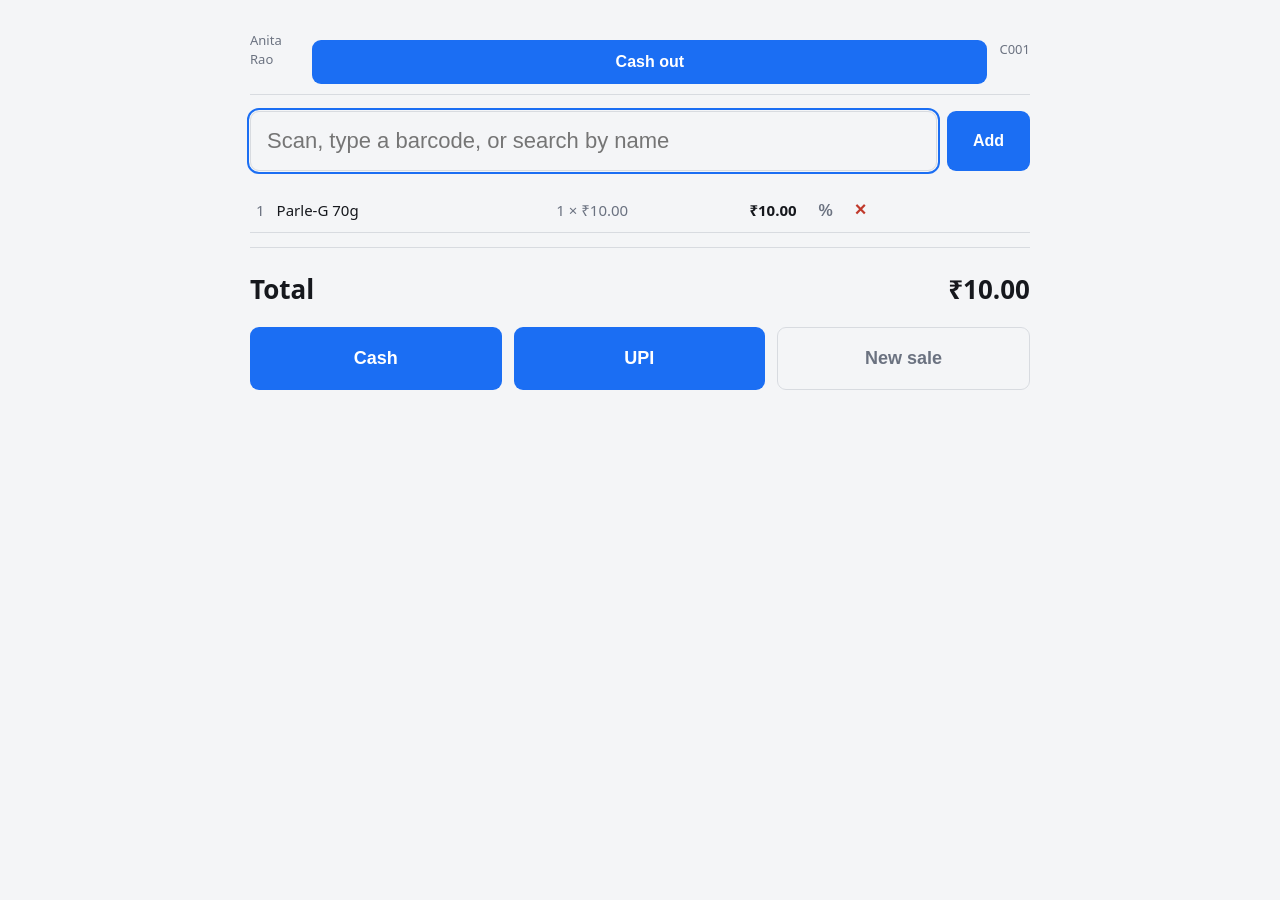
Test case: asking for an override › performs the act itself once a supervisor authorises
Check: the field with placeholder "Scan, type a barcode, or search by name" is shown, box [250,111,937,171]
Click the button named "discount line 1": [826, 211] box [809,201,843,221]
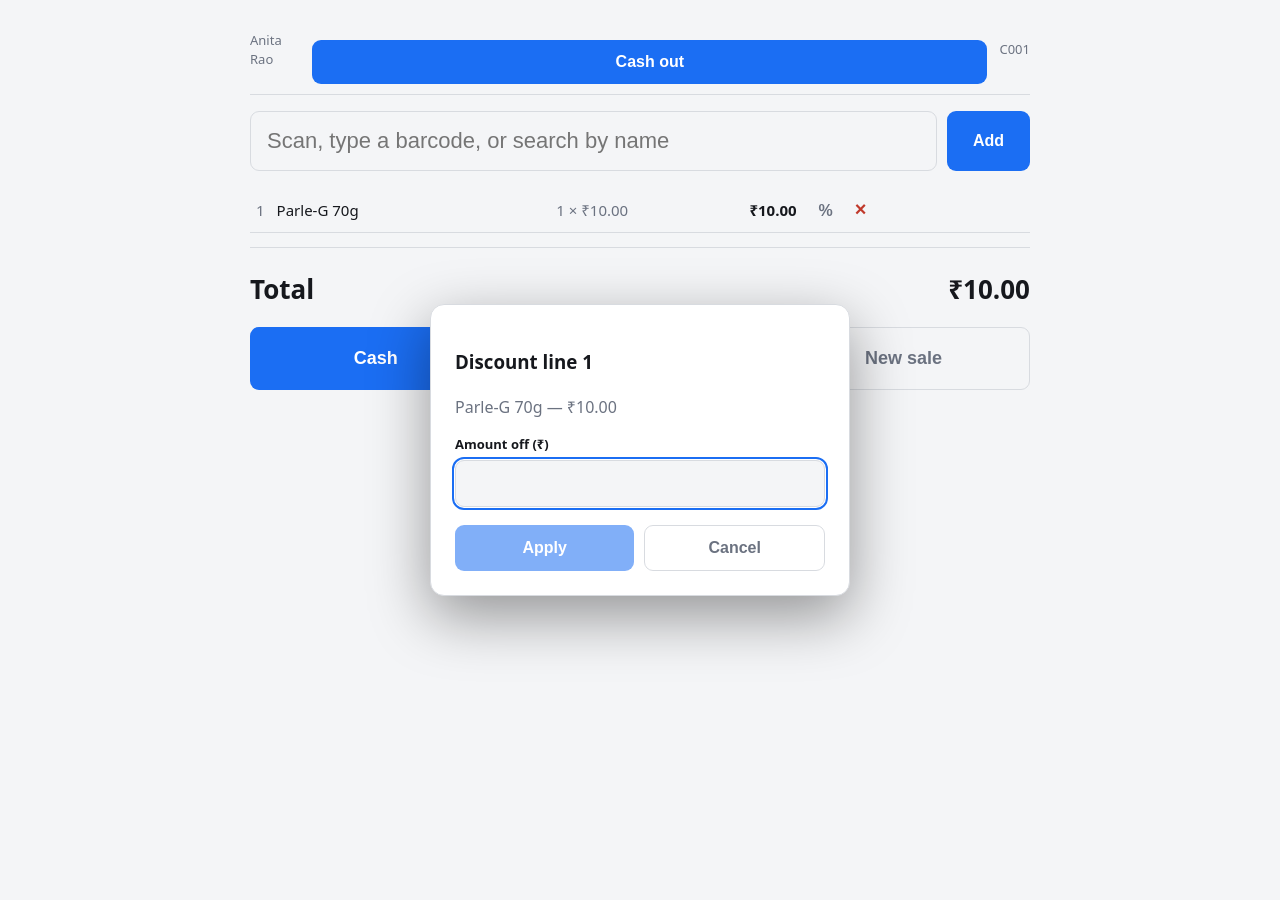
In the field labelled "Amount off (₹)": [640, 484] box [455,460,825,507], type "2"
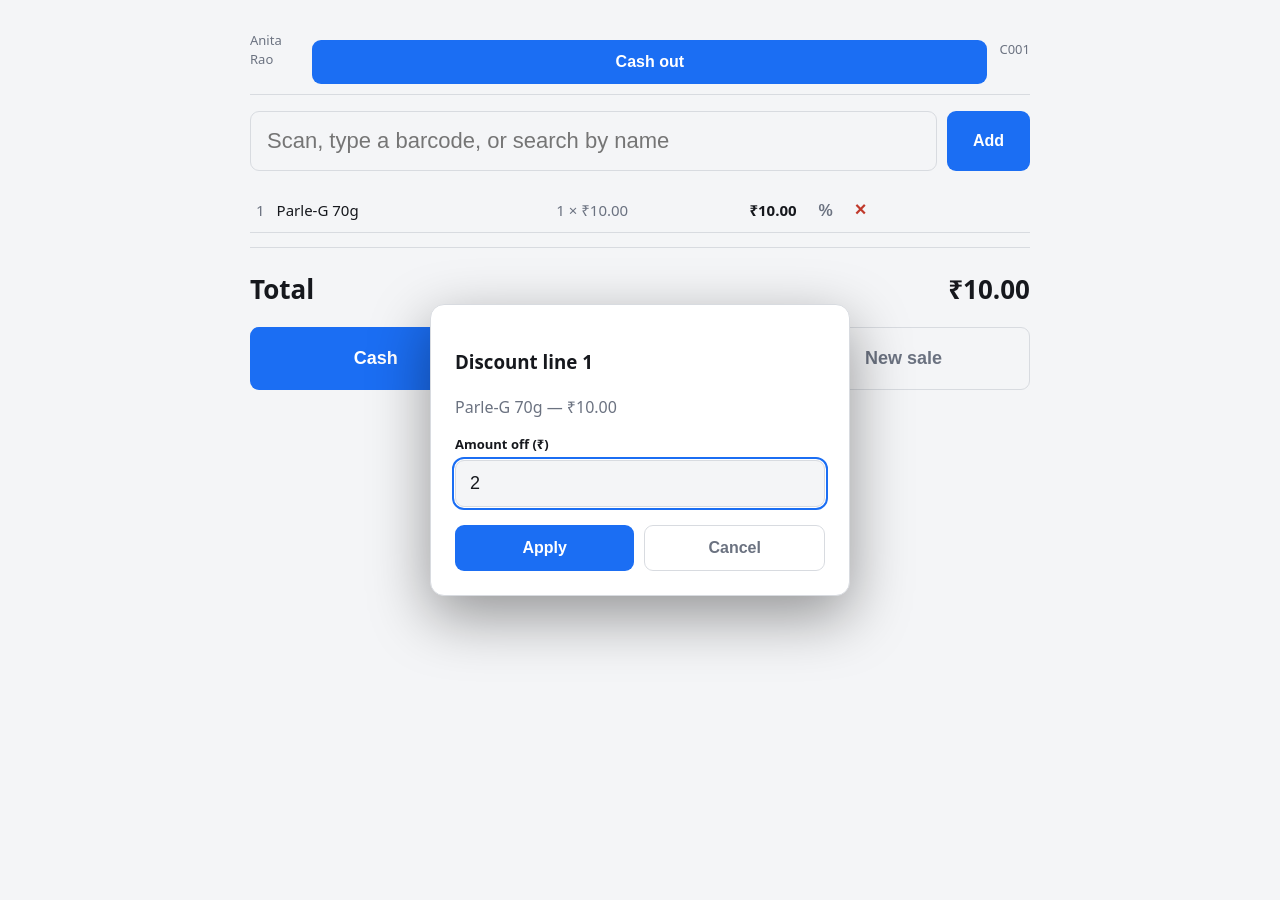
Click the button "Apply": [545, 548] box [455,525,634,571]
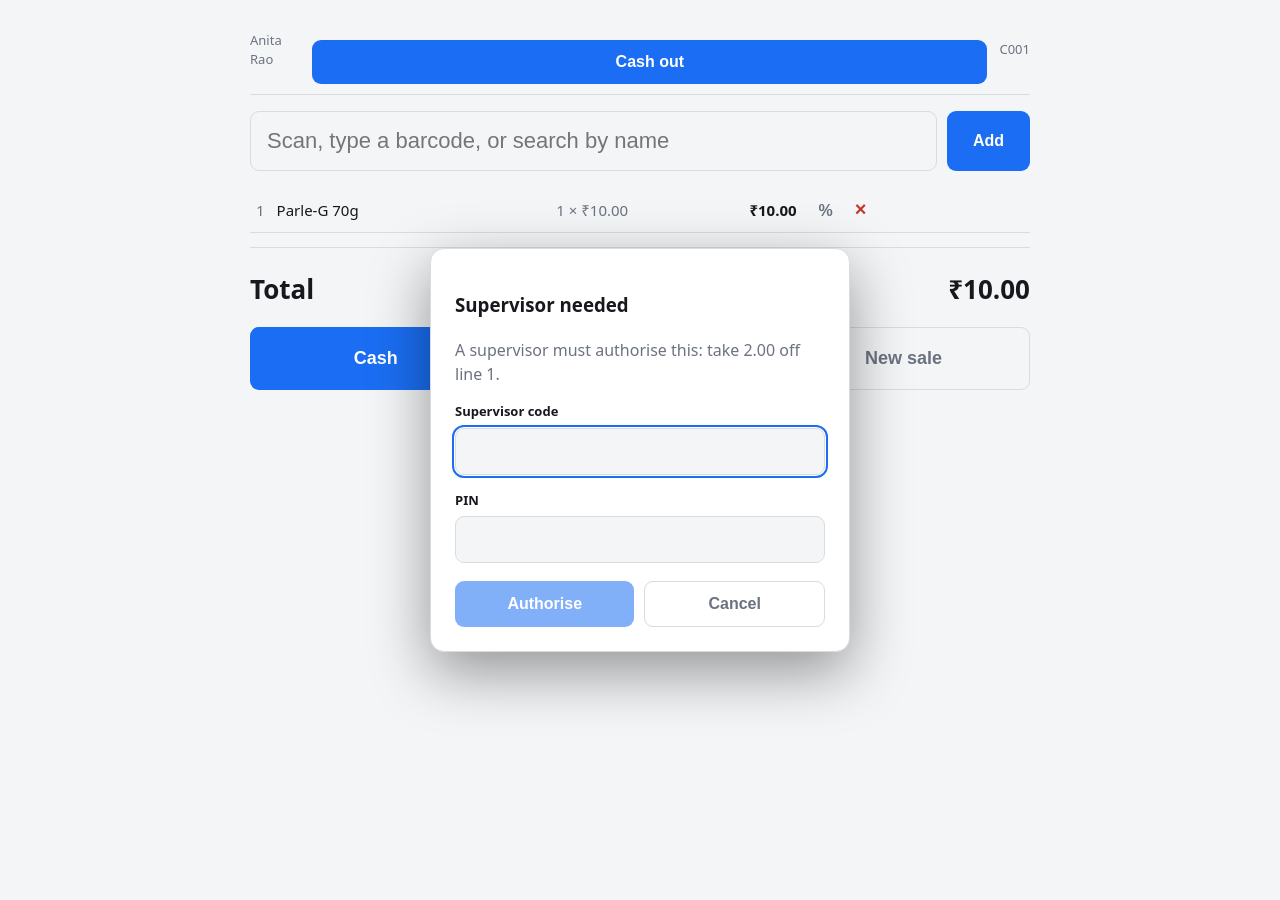
In the field labelled "Supervisor code": [640, 451] box [455,428,825,475], type "S001"
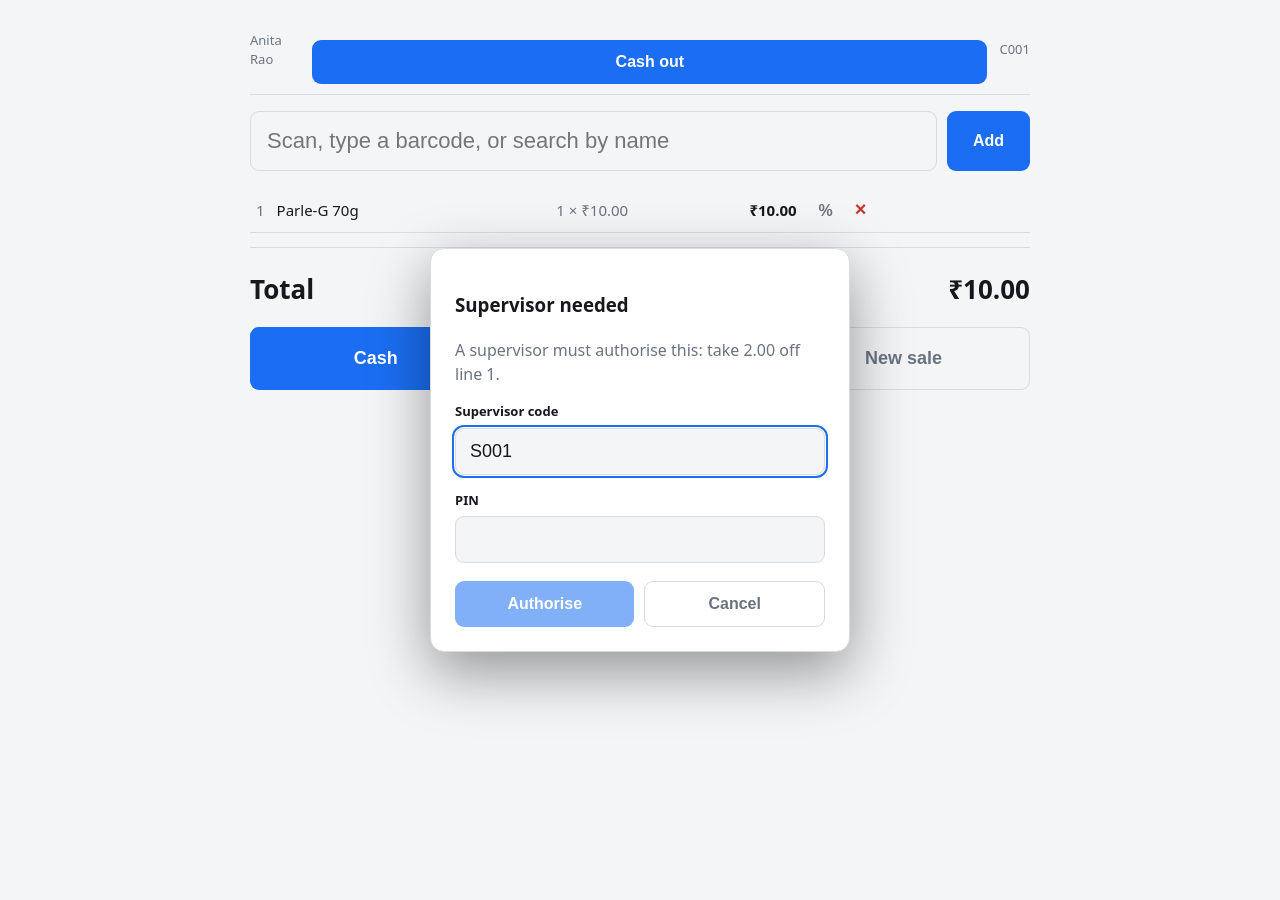
In the password field labelled "PIN": [640, 540] box [455,516,825,563], type "7241"
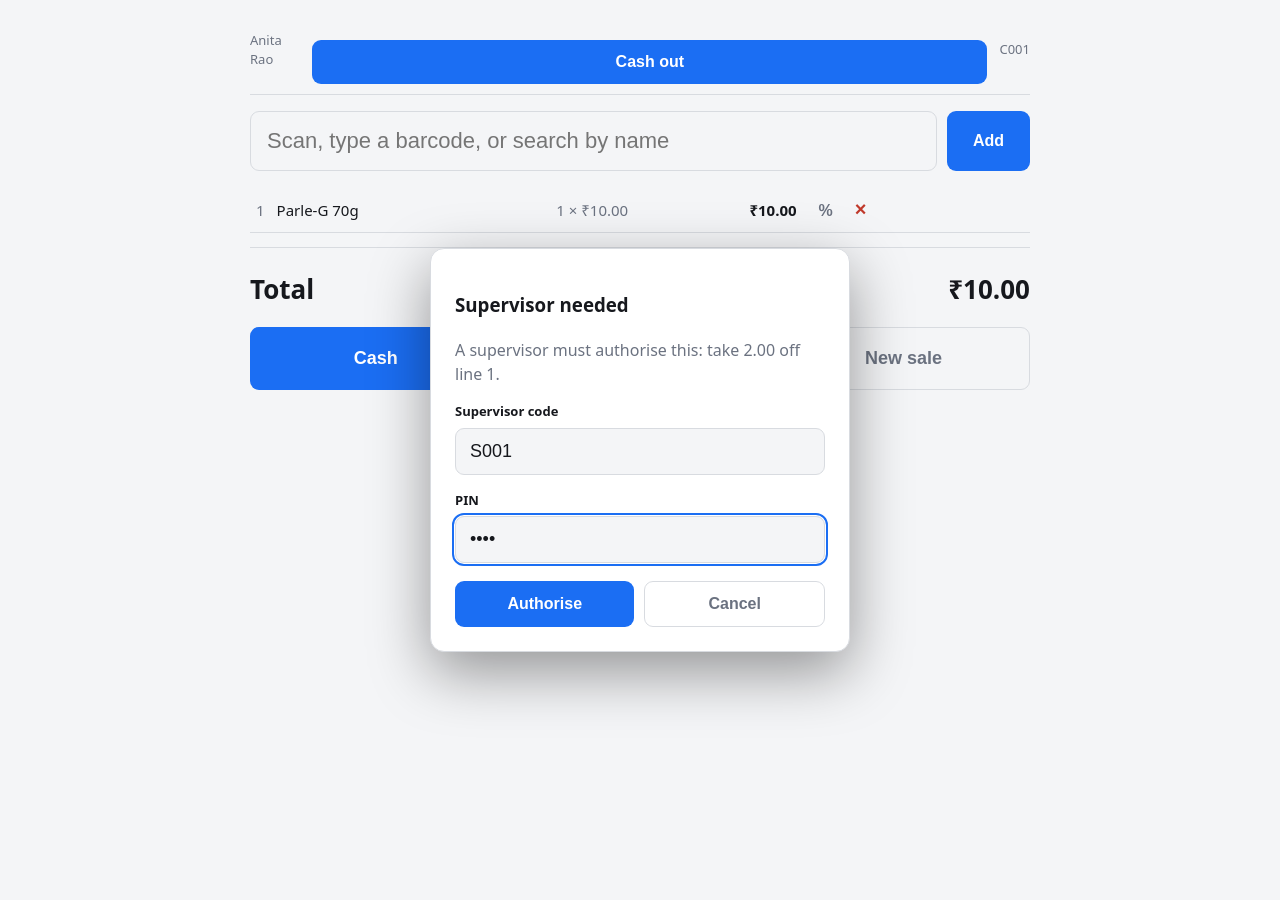
Click the button "Authorise": [545, 604] box [455,581,634,627]
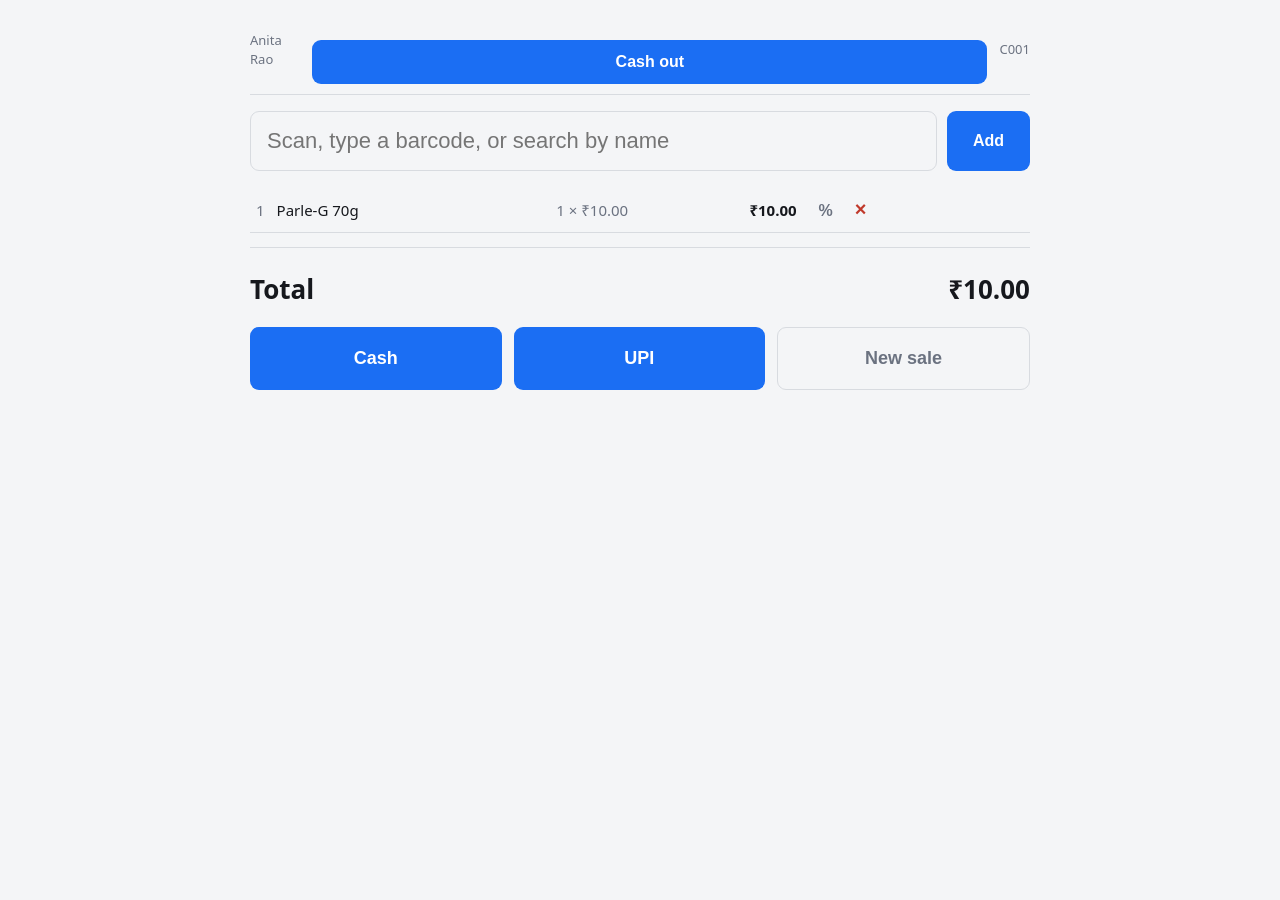
Check: the heading "Supervisor" is gone
